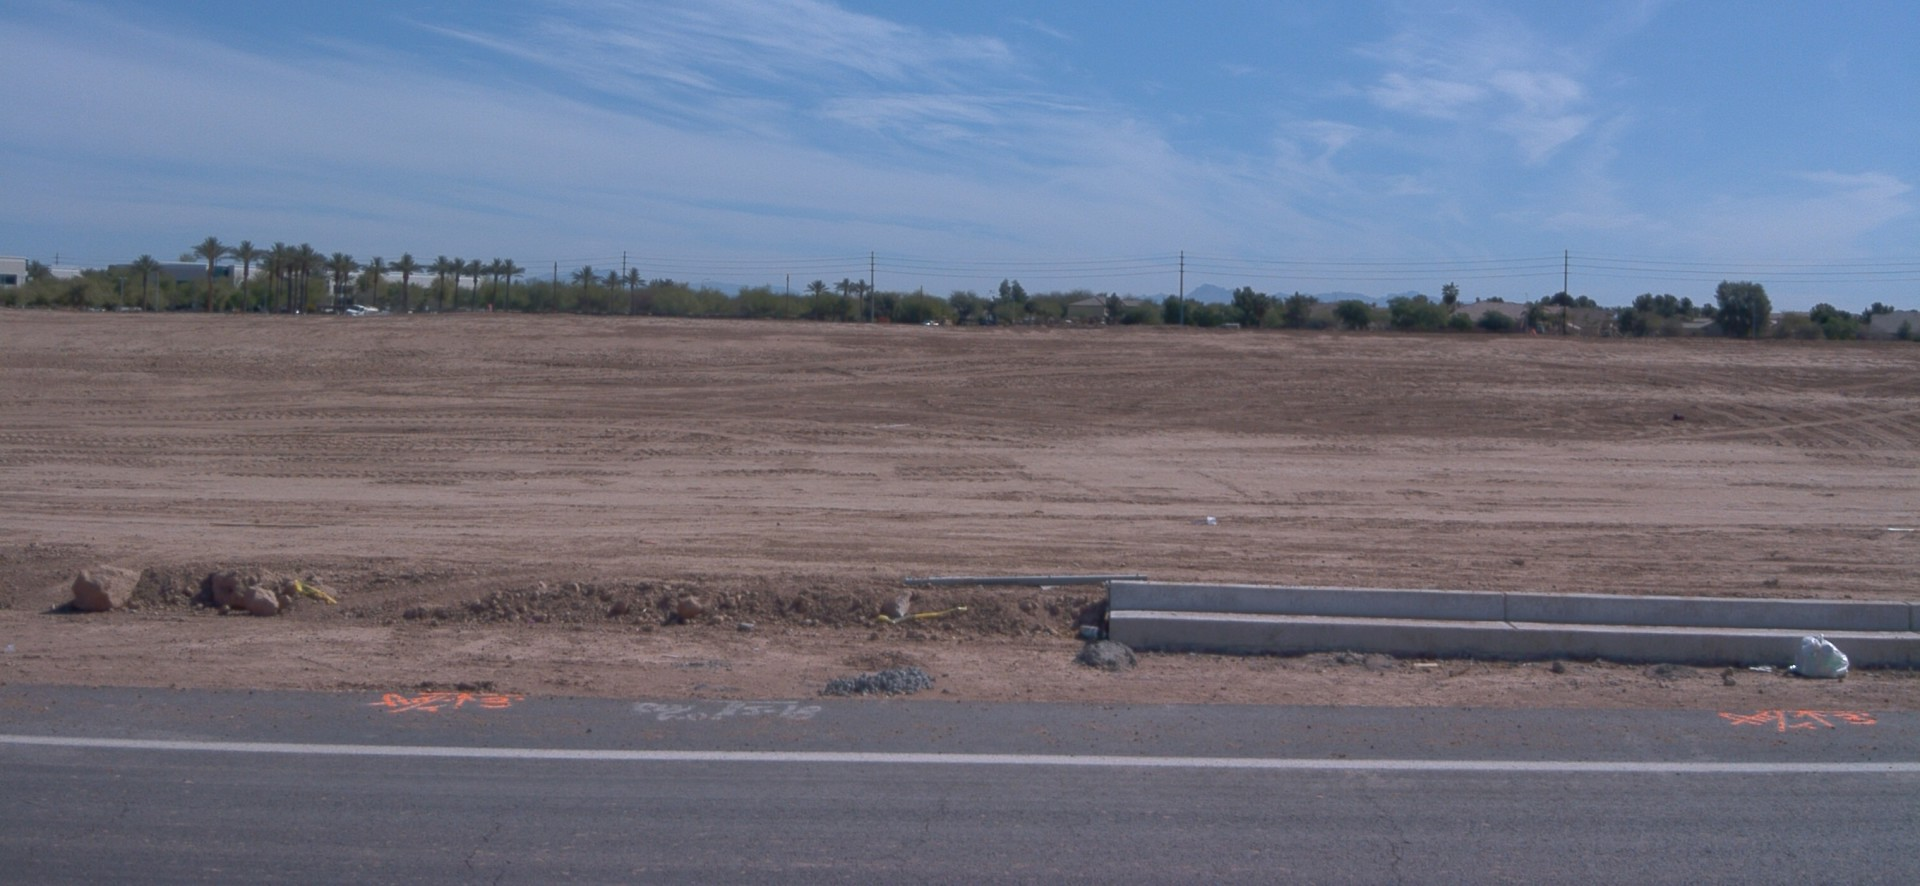TYPE_VEHICLE: (347, 305, 378, 317), (347, 305, 378, 317), (347, 305, 378, 317), (347, 305, 378, 317)
